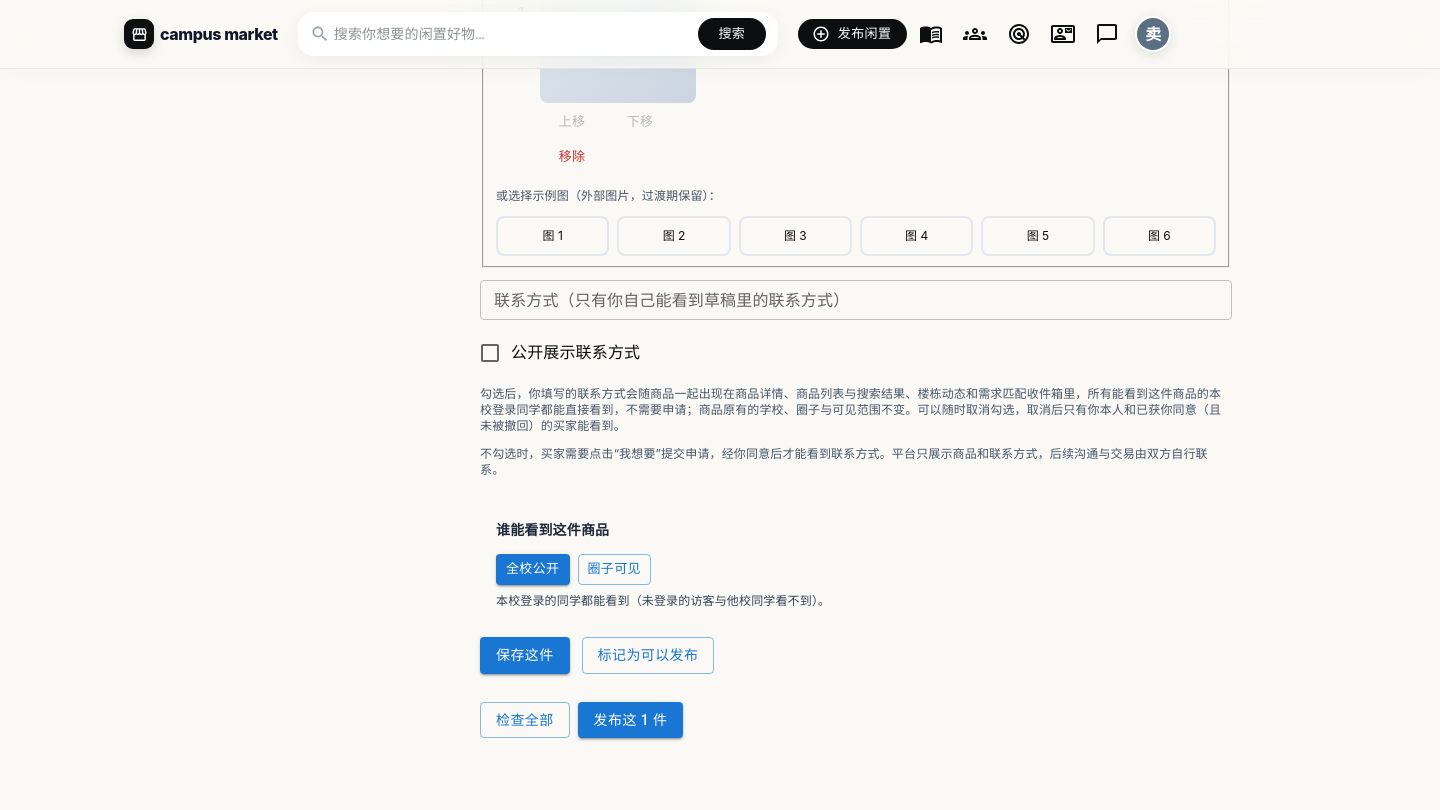
Test: 草稿：响应里的签名地址直接显示，保存时还原成引用 › Mock：刷新页面后（新的适配层实例、内存里没有上传记录）打开批次，图片照常显示；再保存时草稿里仍是 upload:<id>
(page scrolled)
What coordinates should you click on to do the following:
click the button "保存这件"
I would click on:
 (525, 655)
Its box is top-left (480, 637), bottom-right (570, 674).
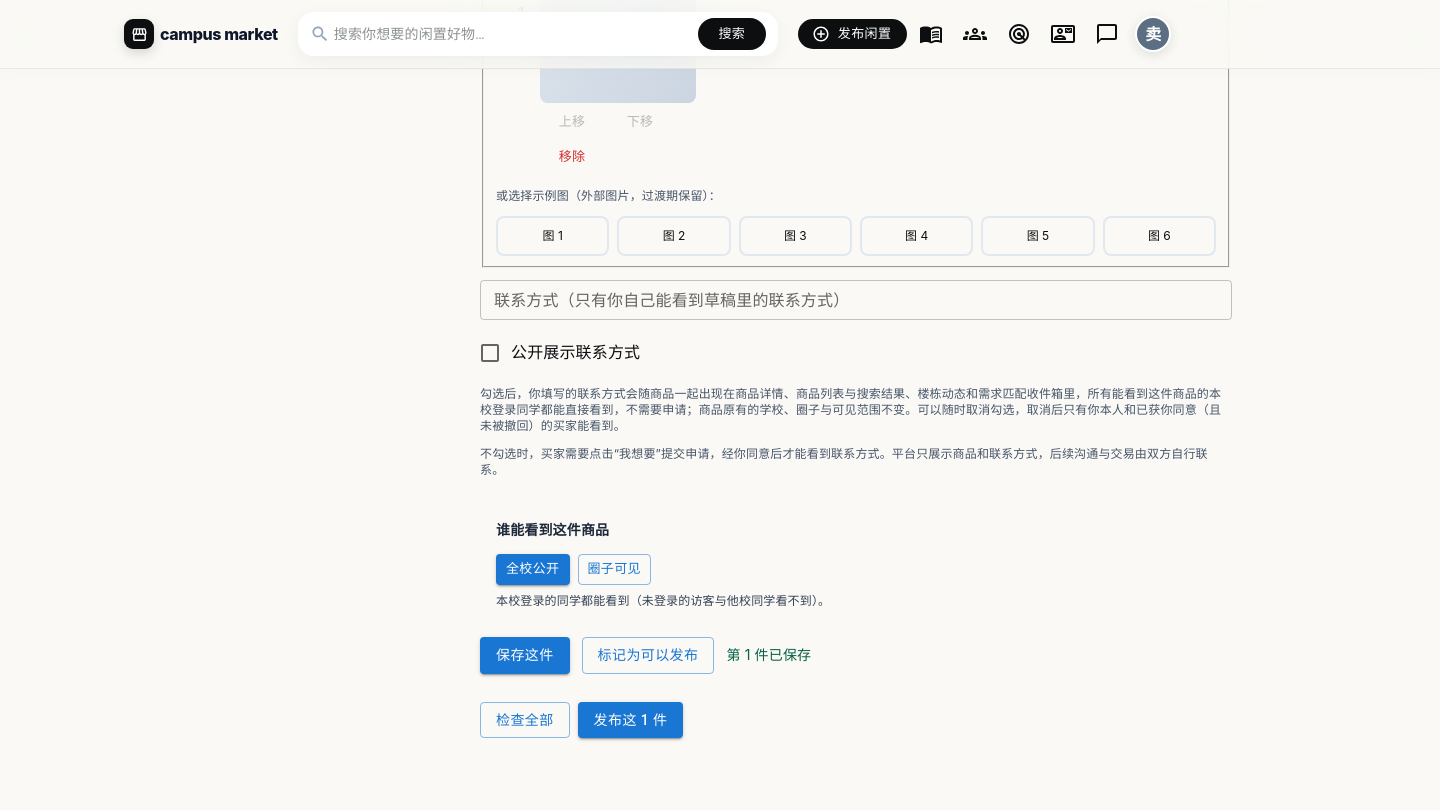
Check: the text "已保存" is shown, box top-left (726, 645), bottom-right (811, 665)
